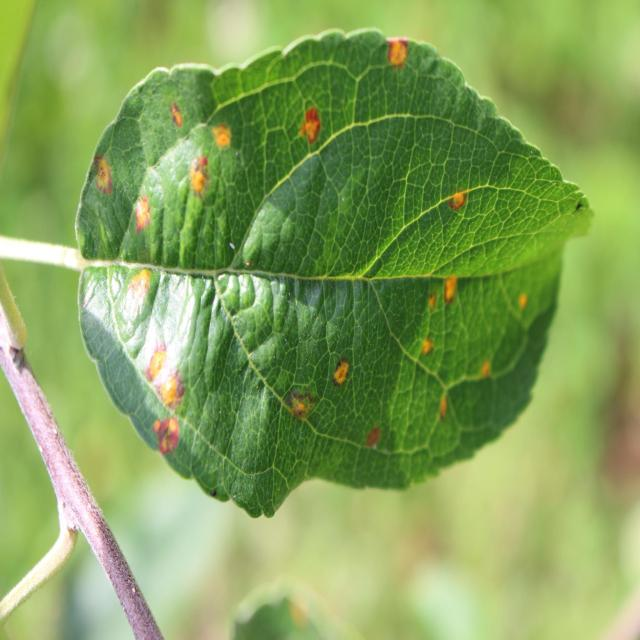Rust: (170, 144, 229, 205), (140, 407, 186, 461), (125, 182, 161, 246), (204, 110, 248, 161), (85, 144, 122, 204), (290, 94, 328, 151), (118, 266, 159, 315), (384, 27, 416, 89), (152, 371, 206, 407), (438, 180, 477, 226), (325, 341, 353, 404), (413, 322, 445, 370), (156, 86, 188, 133), (441, 266, 469, 316), (426, 386, 460, 426), (143, 335, 169, 381), (288, 386, 314, 432), (510, 279, 538, 319), (480, 339, 498, 399), (422, 284, 441, 318)
